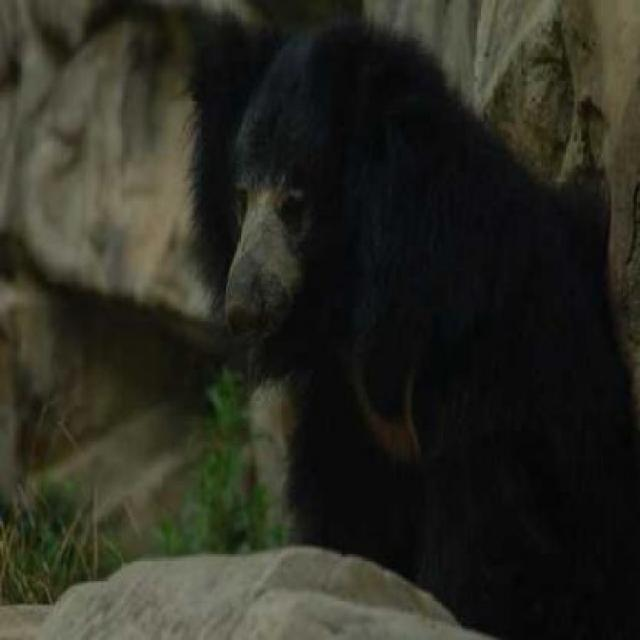Bear: (164, 6, 638, 639)
